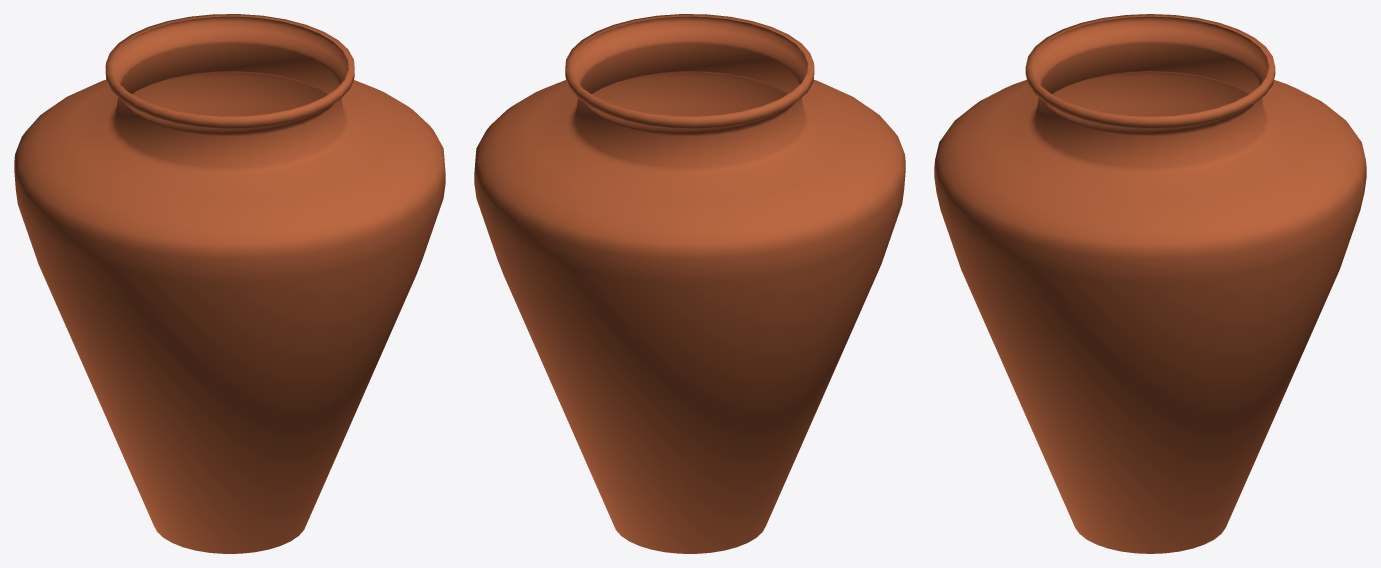
Rendered from vase.glb.
3 views of the same model, side by side, from view 1: azimuth 30°, elevation 25°; view 2: azimuth 150°, elevation 25°; view 3: azimuth 270°, elevation 25° (orthographic).
Parts seen in each view (by area): view 1: SM_Vase 32; view 2: SM_Vase 32; view 3: SM_Vase 32.
Part boxes in pixels (x1,y1,x2,y2): SM_Vase 32: (14, 14, 445, 553); SM_Vase 32: (474, 14, 905, 553); SM_Vase 32: (934, 14, 1366, 553).
Bounding box in the file's own units: 2.44 × 2.83 × 2.44.
